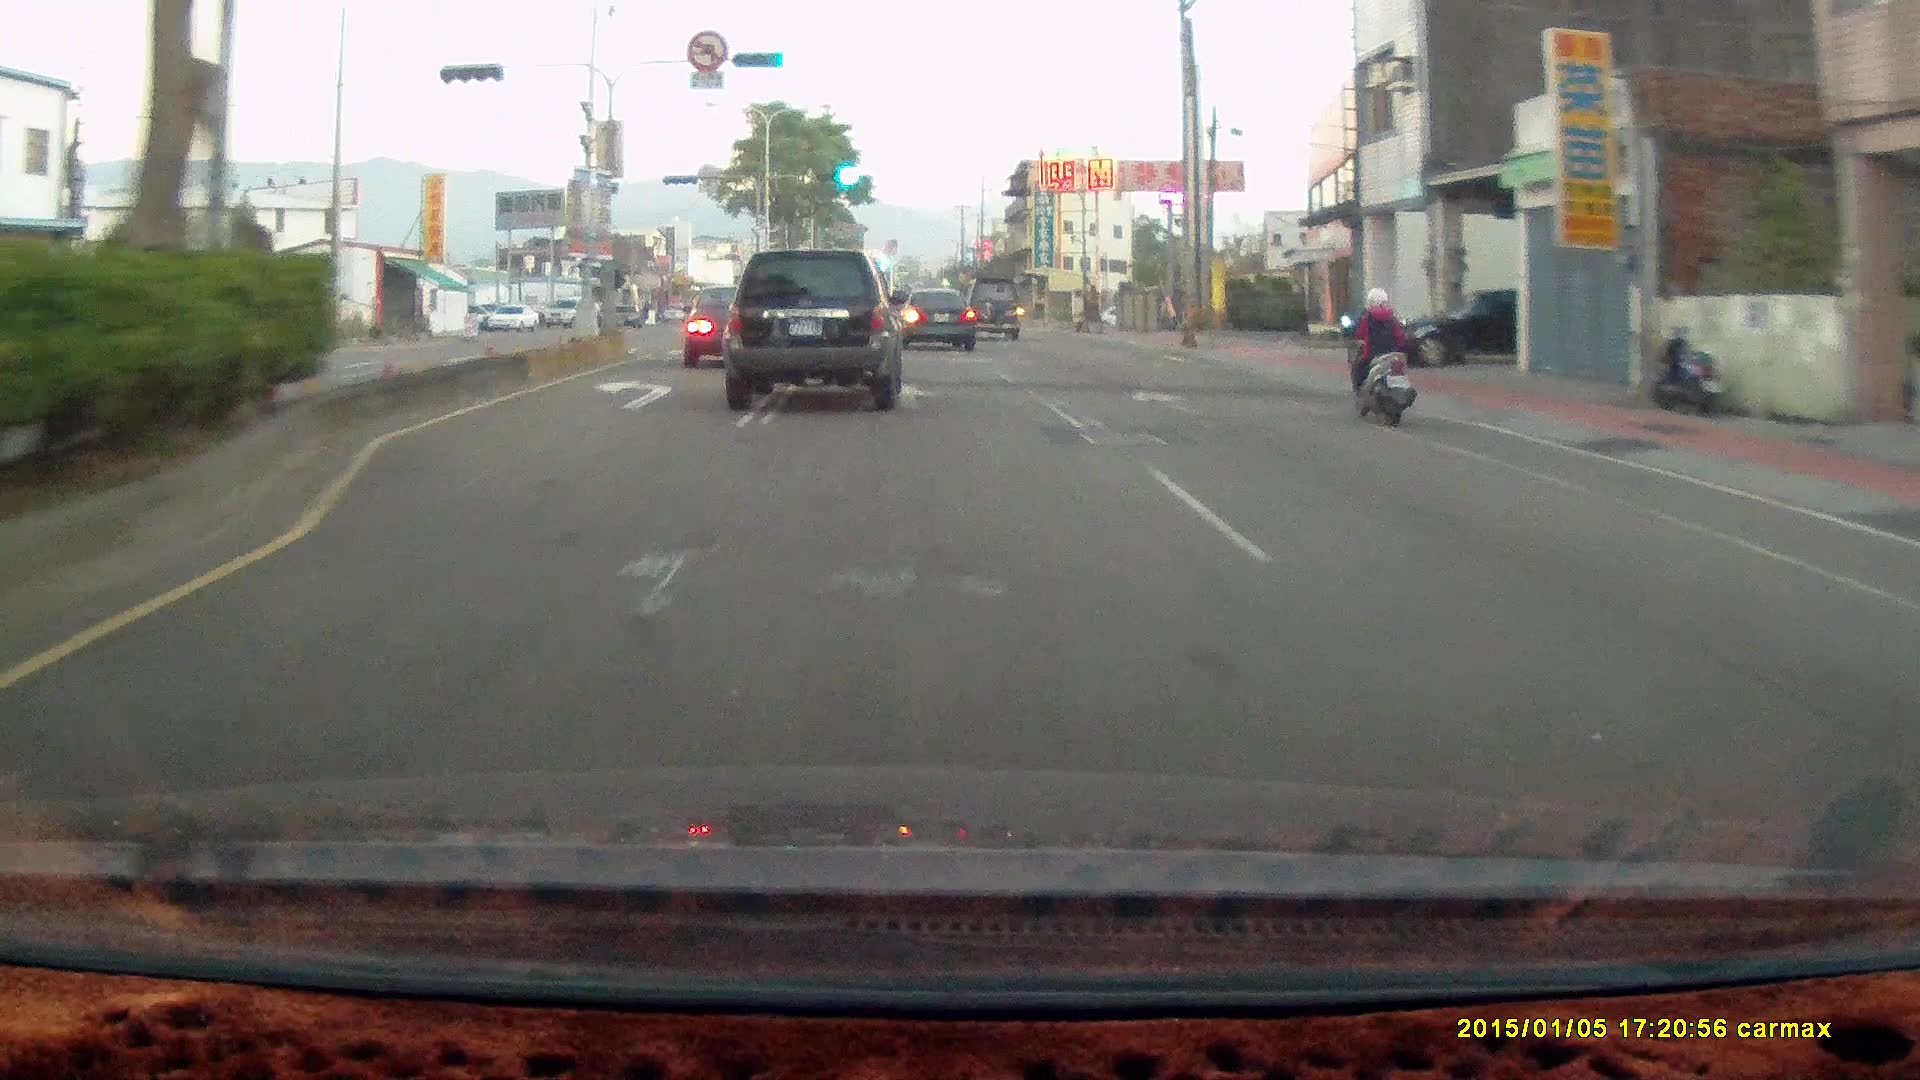rider: (1333, 275, 1428, 436), (1337, 285, 1416, 426)
vehicle: (716, 247, 908, 421), (721, 250, 910, 411), (1383, 286, 1585, 368), (1390, 289, 1530, 373), (684, 287, 794, 373), (681, 286, 789, 367), (892, 289, 979, 352), (893, 286, 975, 349), (959, 277, 1025, 344), (957, 275, 1022, 342), (484, 302, 540, 331), (542, 296, 593, 324)
